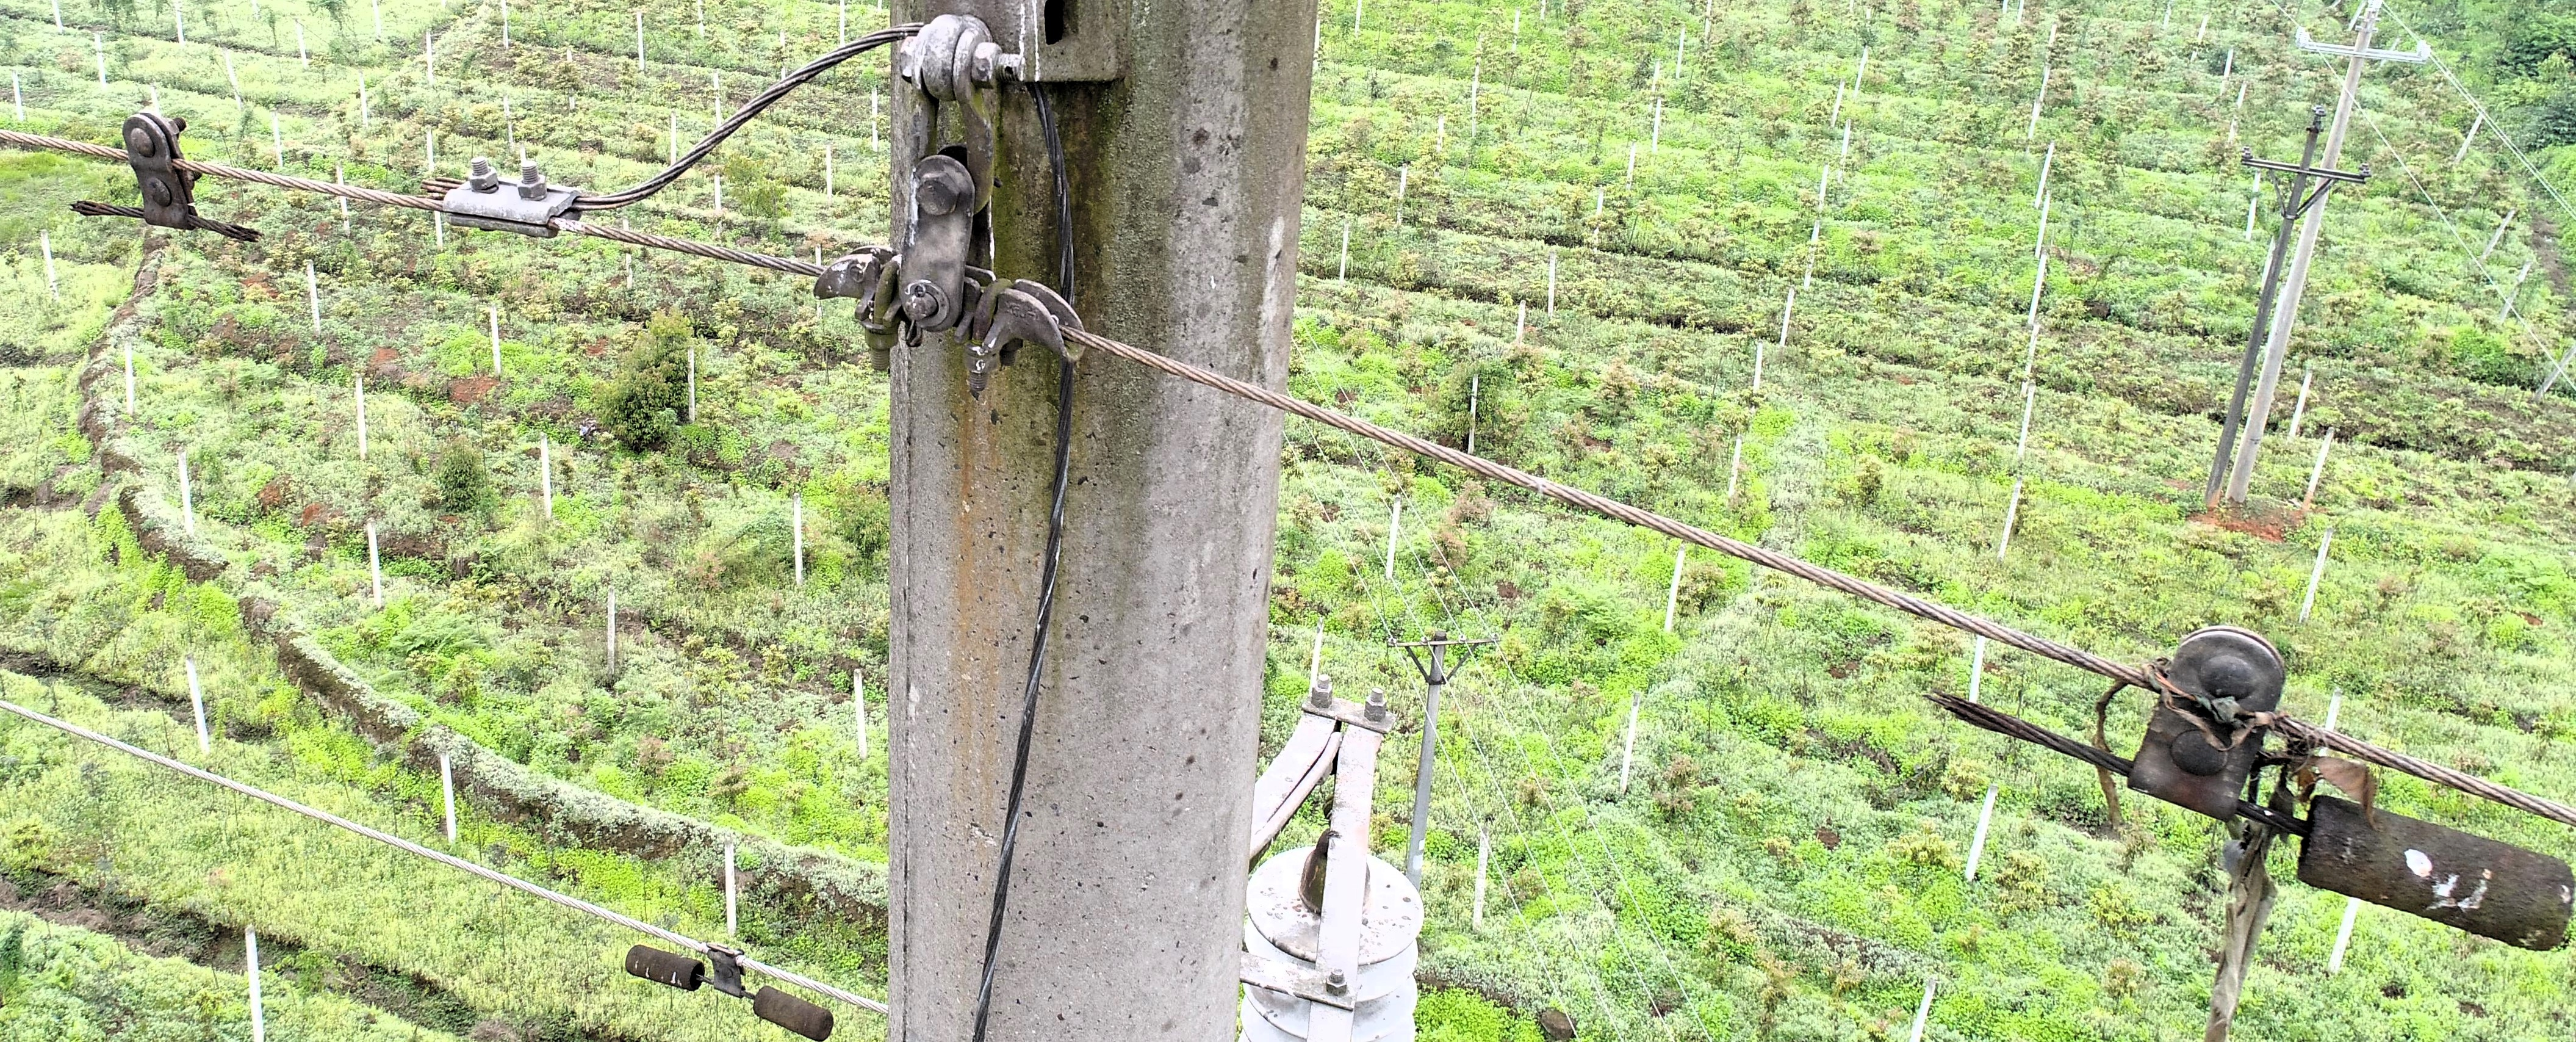Damage of shockproof hammer: (1919, 593, 2576, 988), (39, 92, 279, 266)
